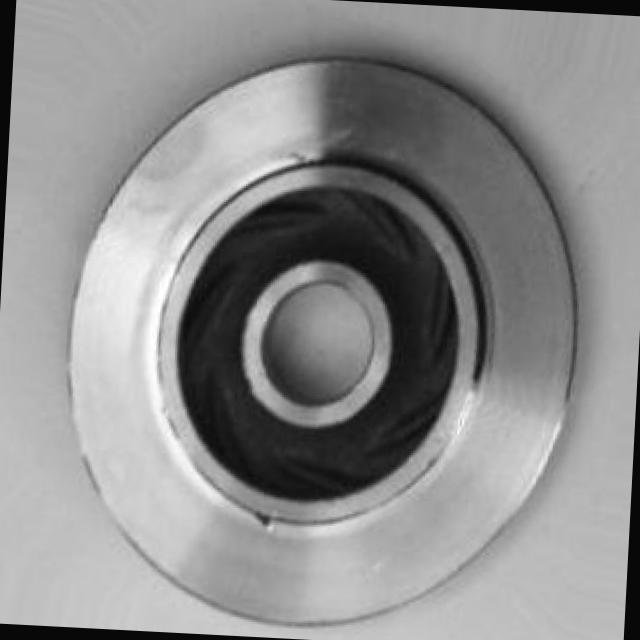Defect: (244, 502, 280, 536)
